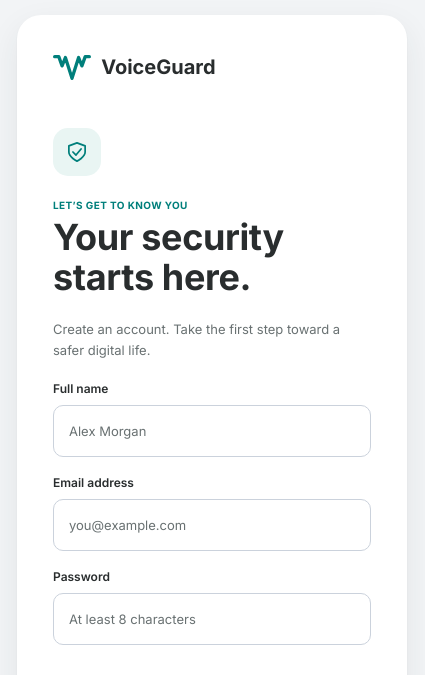
Test: Create account screen › explains a failed signup (0)
Type "  Alex Morgan " into the field labelled "Full name" at (212, 431), box [53,405,371,457]
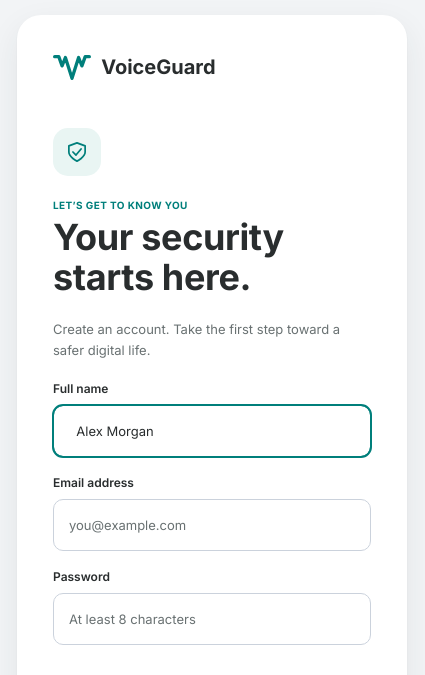
Type "alex@example.com" into the field labelled "Email address" at (212, 525), box [53,499,371,551]
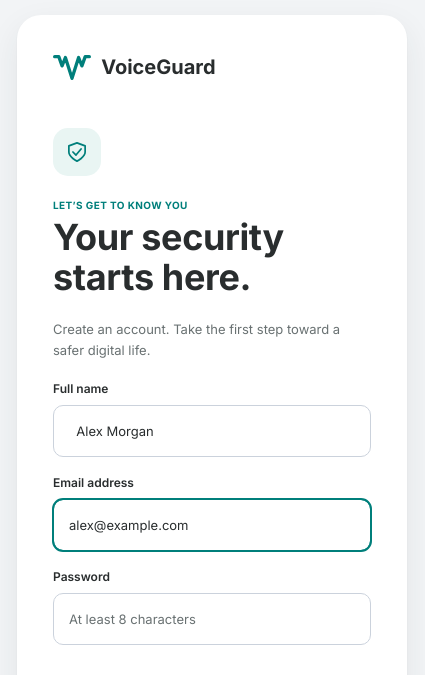
Type "correct-horse" into the password field labelled "Password" at (212, 619), box [53,593,371,645]
(page scrolled)
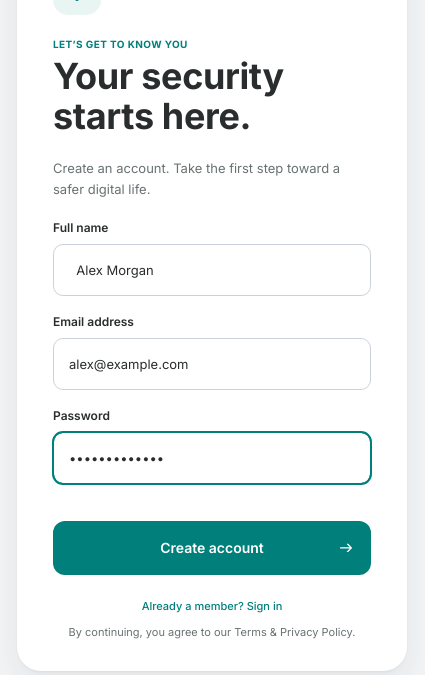
Click the button "Create account" at (212, 548), box [53,521,371,575]
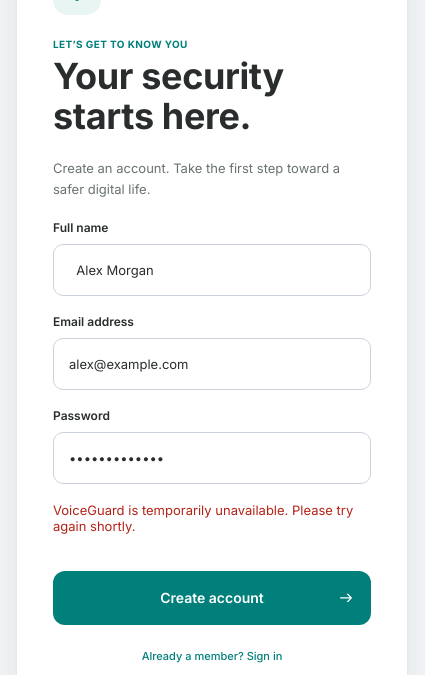
Expected: the button "Create account" is enabled, [53,571,371,625]
Expected: the message reads "VoiceGuard is temporarily unavailable. Please try again shortly.", [53,502,353,534]
